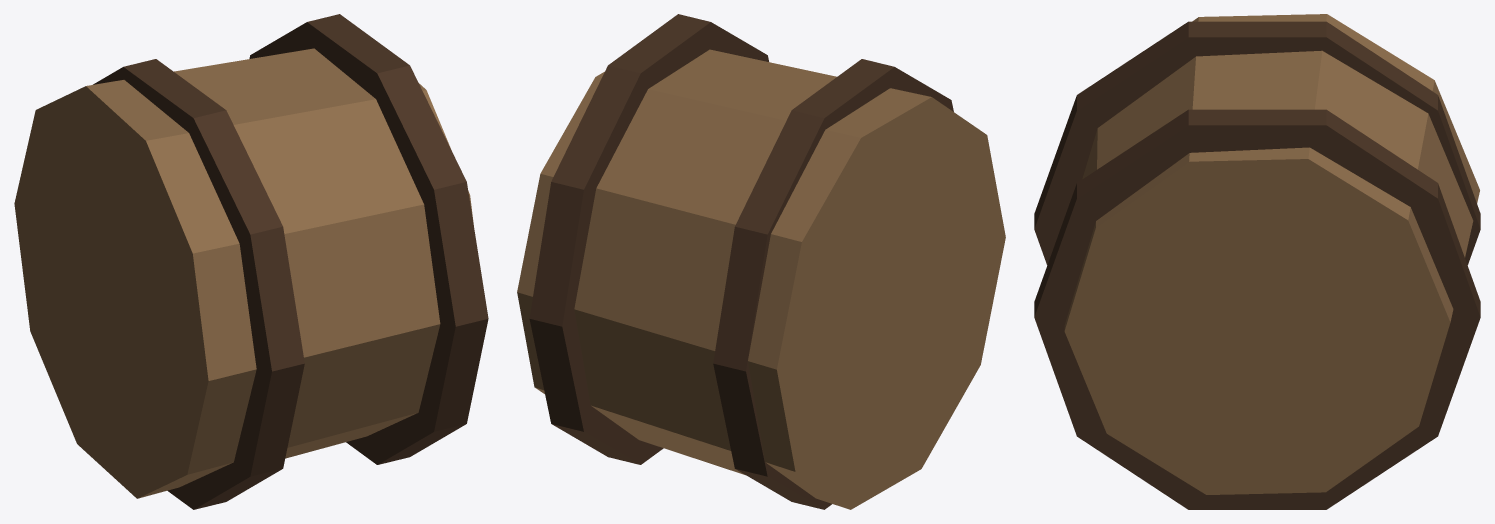
The model's file is stonebrow_bracer_l.glb.
3 renders of one model, left to right at view 1: azimuth 30°, elevation 25°; view 2: azimuth 150°, elevation 25°; view 3: azimuth 270°, elevation 25°, orthographic.
Visible parts, largest first — view 1: stonebrow_bracer_l; view 2: stonebrow_bracer_l; view 3: stonebrow_bracer_l.
Part boxes in pixels (x1,y1,x2,y2): stonebrow_bracer_l: (14, 14, 488, 509); stonebrow_bracer_l: (517, 14, 1005, 509); stonebrow_bracer_l: (1034, 14, 1480, 509).
Bounding box in the file's own units: 0.2228 × 0.2853 × 0.3.
